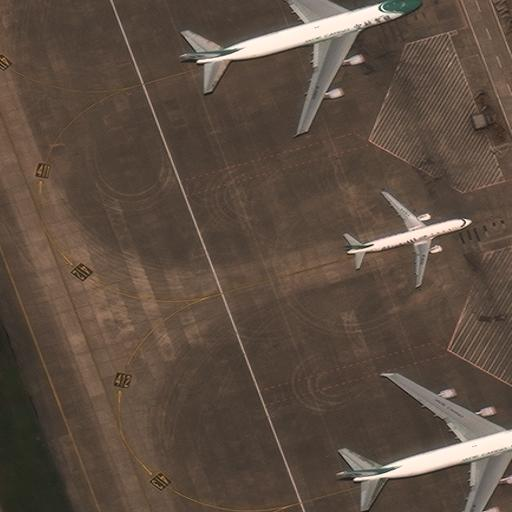Large Civil Transport: (195, 0, 424, 131), (349, 370, 512, 511)
Medium Civil Transport: (343, 189, 472, 288)
